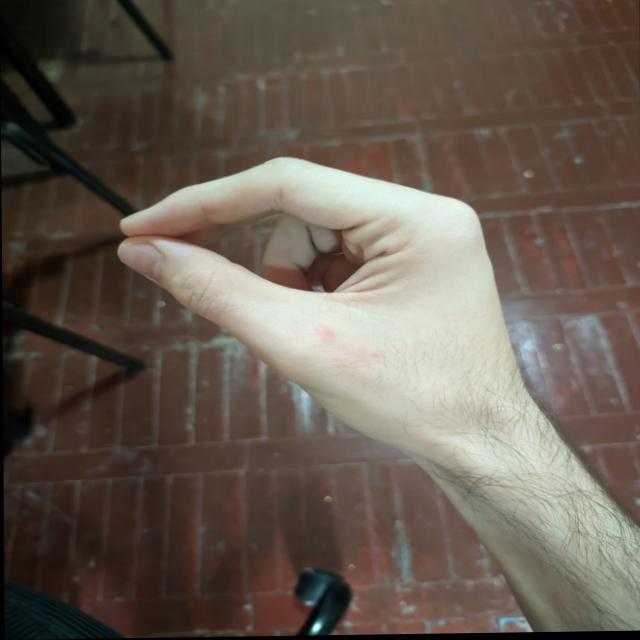ch: (107, 152, 551, 452)
